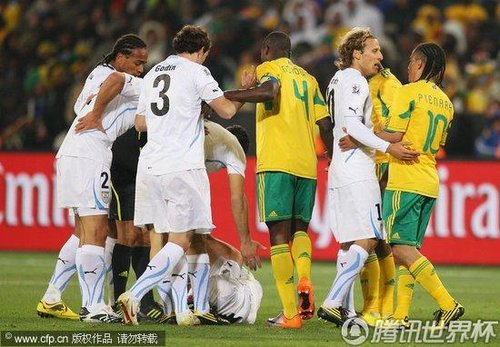10+: (4, 4, 497, 332)
down: (125, 226, 277, 323)
